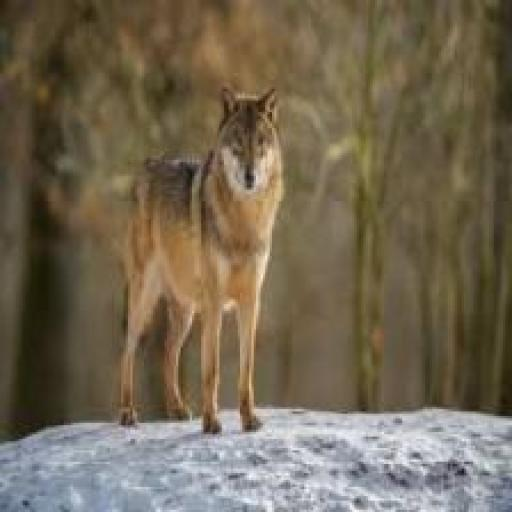wolf: (110, 59, 283, 454)
